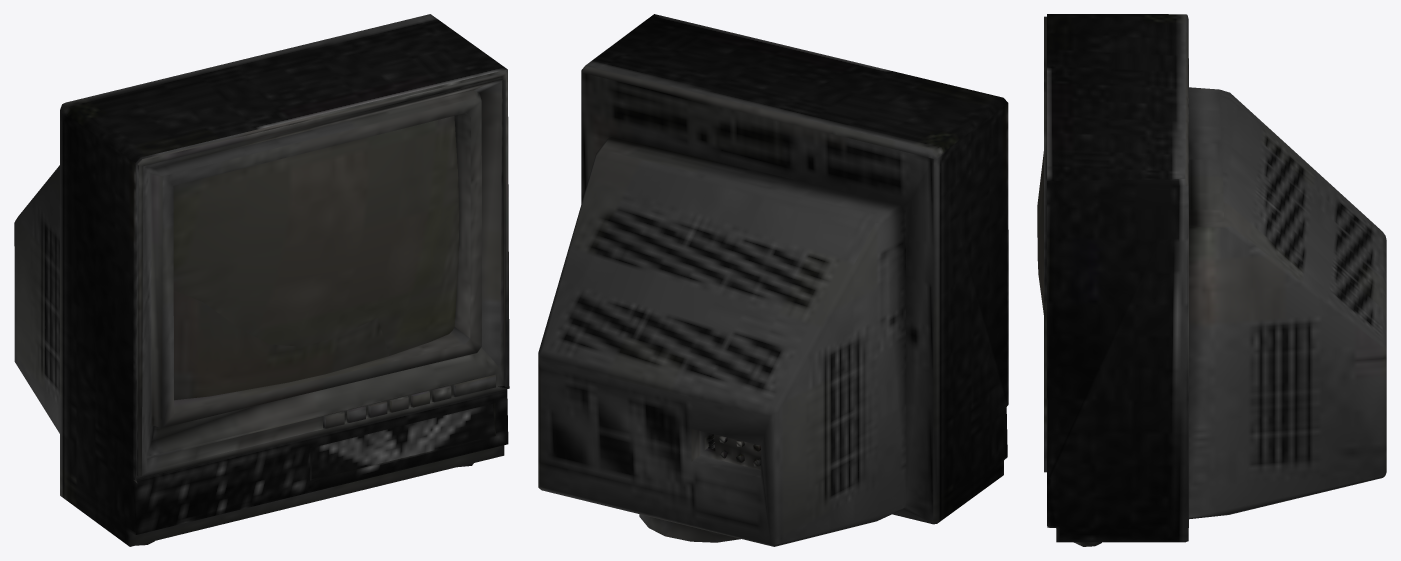
3 views of the same model, side by side, from view 1: azimuth 30°, elevation 25°; view 2: azimuth 150°, elevation 25°; view 3: azimuth 270°, elevation 25° (orthographic). The views are drawn at different scales.
Visible parts, largest first — view 1: lo; view 2: lo; view 3: lo.
Boxes of the visible parts, left/top/right/bottom form: lo: left=14, top=14, right=509, bottom=546; lo: left=538, top=14, right=1008, bottom=546; lo: left=1037, top=14, right=1386, bottom=546.
Bounding box in the file's own units: 0.3997 × 0.4113 × 0.3499.
Materials: 1 (1 with a texture image).
